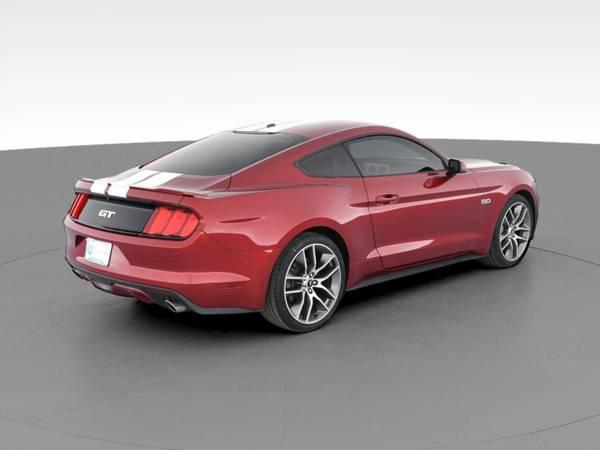Front_Fender: (470, 167, 540, 256)
Front_Right_Door: (366, 172, 481, 269)
Front_Right_Window: (343, 134, 452, 181)
Left_Taillight: (67, 191, 88, 222)
Rear_Bumper: (67, 219, 283, 311)
Rear_Fender: (179, 142, 385, 287)
Rear_Windshield: (139, 132, 304, 178)
Right_Taillight: (139, 205, 204, 245)
Roof: (228, 117, 453, 187)
Tailgate: (77, 165, 232, 235)
Wheel: (270, 231, 349, 329), (492, 198, 538, 267)
